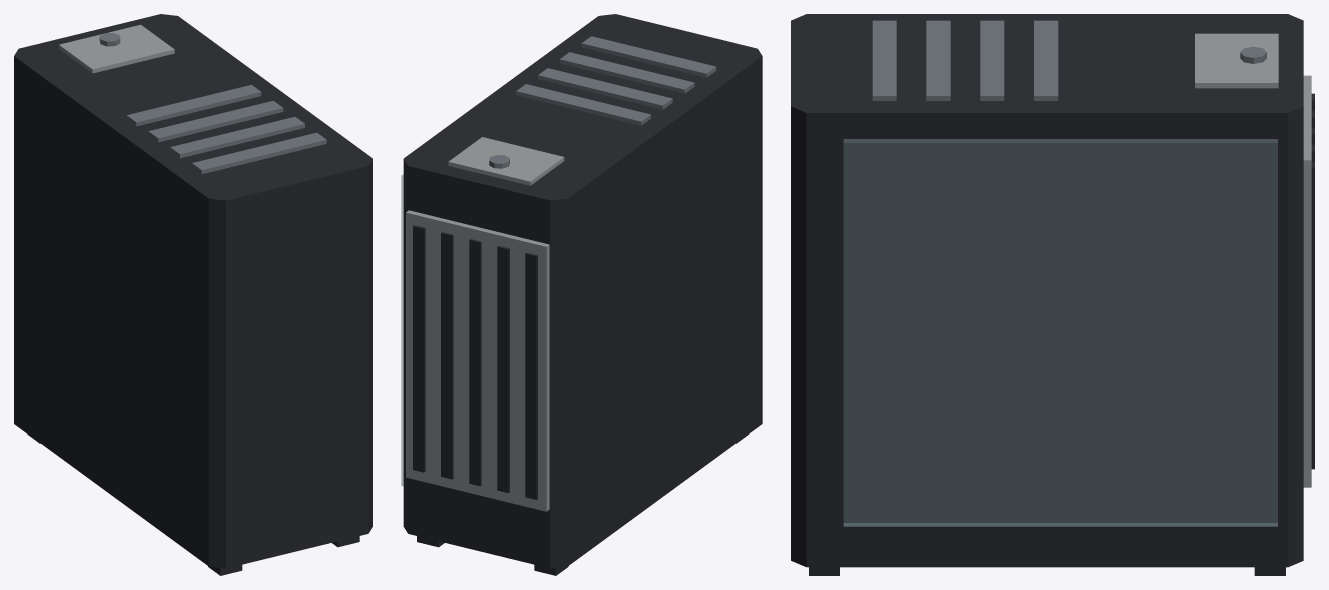
File: SM_LPI_Tech_PcTower_01.fbx
3 views of the same model, side by side, from view 1: azimuth 30°, elevation 25°; view 2: azimuth 150°, elevation 25°; view 3: azimuth 270°, elevation 25° (orthographic). The views are drawn at different scales.
Visible parts, largest first — view 1: SM_LPI_Tech_PcTower_01; view 2: SM_LPI_Tech_PcTower_01; view 3: SM_LPI_Tech_PcTower_01.
Boxes of the visible parts, x1,y1,x2,y2 form: SM_LPI_Tech_PcTower_01: (14,14,372,575); SM_LPI_Tech_PcTower_01: (401,14,762,575); SM_LPI_Tech_PcTower_01: (791,14,1314,575).
Size of the model in its own units: 0.218 by 0.477 by 0.47.
